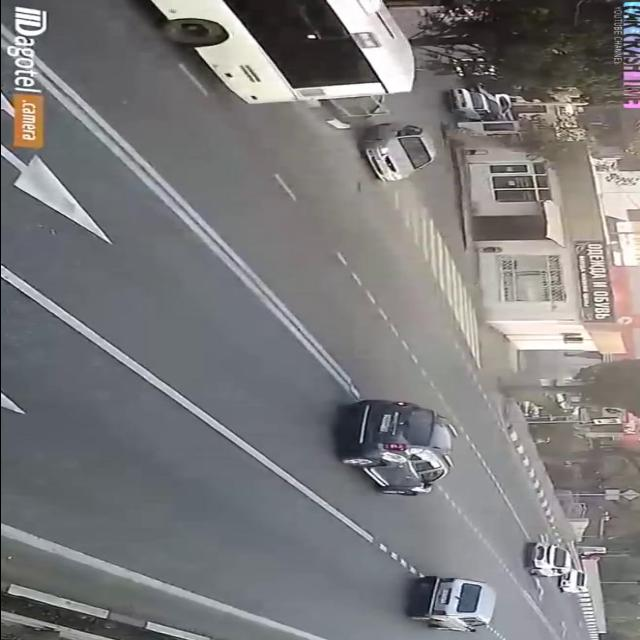non_accident: (516, 535, 592, 597), (442, 76, 518, 130)
